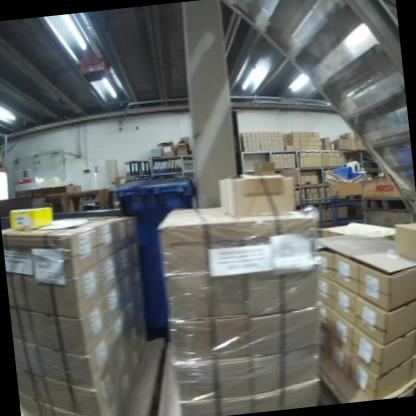pallet: (362, 191, 412, 216), (392, 371, 416, 398)
